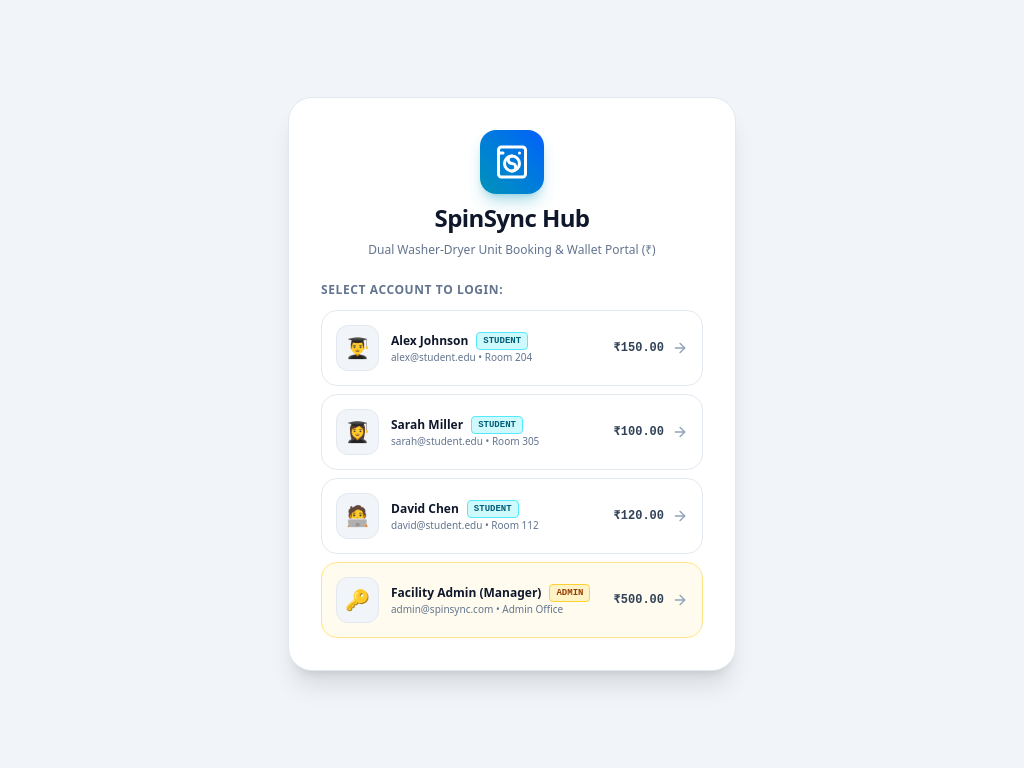
Test case: SpinSync Application Test Suite (Vitest + React Testing Library) › renders Login Unit initially and allows Student login
This screenshot has width=1024, height=768.
Expected: the heading "SpinSync Hub" is shown, [435,201,590,234]
Expected: the text "Select Account to Login:" is shown, [321,281,503,298]
Note: Click Alex Johnson (Student)
Click the text "Alex Johnson" at (430, 340), box [391,332,468,348]
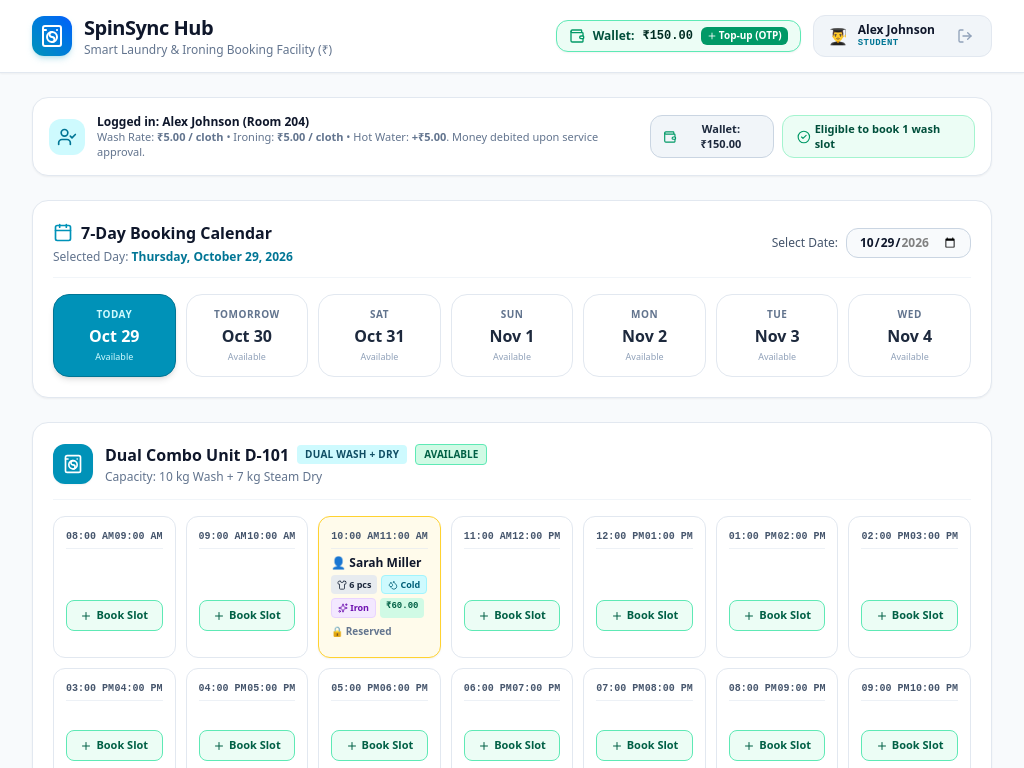
Expected: the text "Logged in: Alex Johnson (Room 204)" is shown, [97,113,309,130]
Expected: the heading "7-Day Booking Calendar" is shown, [81,221,272,245]
